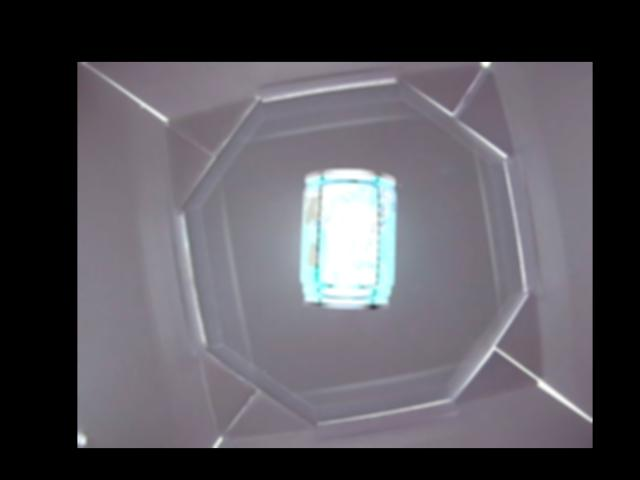Bottle: (300, 170, 394, 310)
